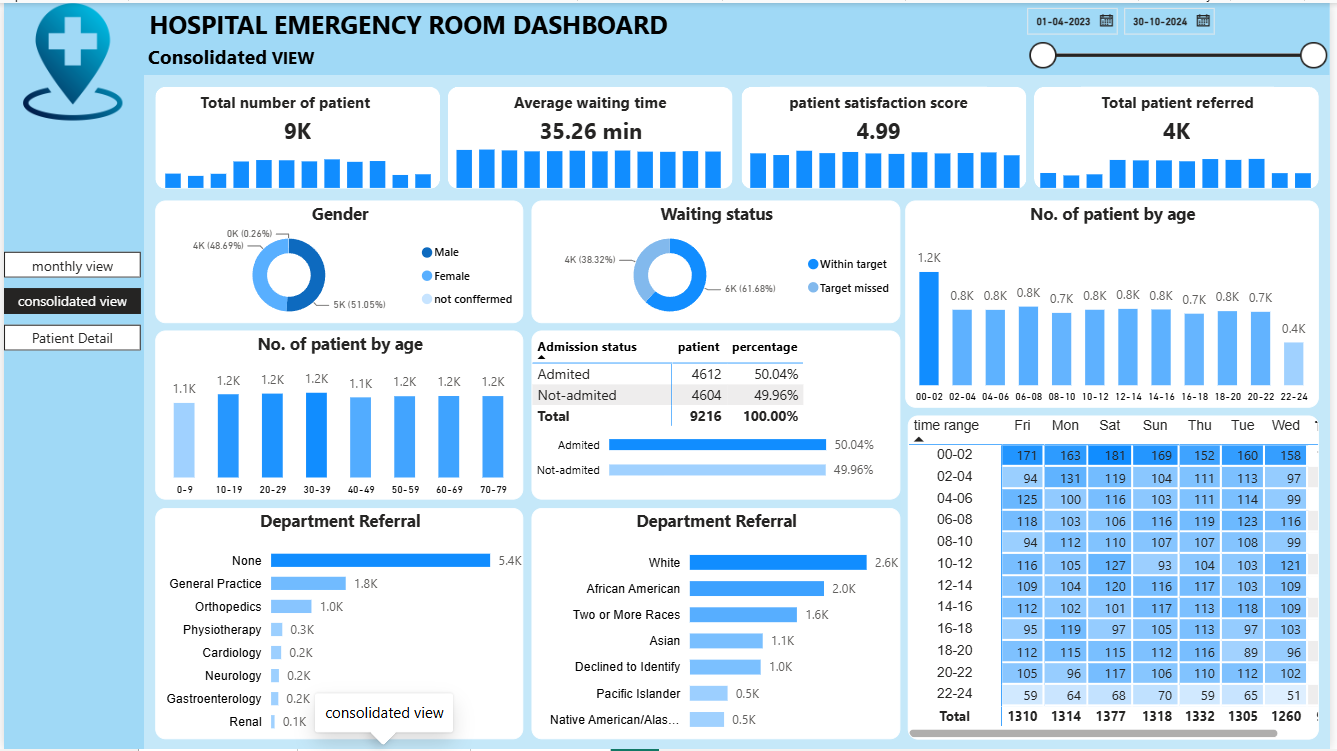

What the dashboard file says about the page in this screenshot:
{"tool":"powerbi","page":{"name":"consolidated view","canvas":[1280,720],"ordinal":1},"visuals":[{"type":"shape","box":[134.5,0,1145.8,69.7],"z":0},{"type":"barChart","title":"Department Referral","fields":{"Category":["Hospital ER_Data.Department Referral"],"Y":["all messure.Total number of pationt"]},"box":[146,487,355.3,223.6],"z":1000},{"type":"shape","box":[0,0,135.1,720.2],"z":2000},{"type":"barChart","title":"Department Referral","fields":{"Y":["all messure.Total number of pationt"],"Category":["Hospital ER_Data.Patient Race"]},"box":[508.8,487,355.6,223.6],"z":3000},{"type":"textbox","box":[135,0,533.8,37.5],"z":4000},{"type":"shape","box":[146,80.8,275,98.6],"z":5000,"group":"g1"},{"type":"pivotTable","title":"Patient admission status","fields":{"Rows":["Hospital ER_Data.Patient Admission status"],"Values":["Hospital ER_Data.Total number of pationt","Divide(Hospital ER_Data.Total number of pationt, ScopedEval(Hospital ER_Data.Total number of pationt, []))"]},"box":[508.8,316.2,355.6,163.3],"z":5000},{"type":"textbox","box":[134.5,34.2,204.2,35.5],"z":6000},{"type":"shape","box":[711.9,80.8,275,98.6],"z":6000,"group":"g1"},{"type":"shape","box":[994.2,80.8,275,98.6],"z":7000,"group":"g1"},{"type":"columnChart","title":"No. of patient by age ","fields":{"Category":["Hospital ER_Data.age group"],"Y":["all messure.Total number of pationt"]},"box":[146,316.2,355.3,163.3],"z":7000},{"type":"image","box":[0,0,132.5,113.8],"z":8000},{"type":"shape","box":[428.3,80.8,275,98.6],"z":8000,"group":"g1"},{"type":"cardVisual","fields":{"Data":["Hospital ER_Data.Total number of pationt"]},"box":[247.4,98,72.1,47],"z":9000,"group":"g1"},{"type":"donutChart","title":"Waiting status","fields":{"Category":["Hospital ER_Data.waiting status"],"Y":["all messure.Total number of pationt"]},"box":[508.8,190.6,355.6,118.1],"z":9000},{"type":"columnChart","fields":{"Category":["calendar.month"],"Y":["all messure.Total number of pationt"]},"box":[155.1,129.3,256.7,50.4],"z":10000,"group":"g1"},{"type":"donutChart","title":"Gender","fields":{"Y":["all messure.Total number of pationt"],"Category":["Hospital ER_Data.Patient Gender"]},"box":[146,190.6,355.3,118.1],"z":10000},{"type":"textbox","box":[179,80.8,185.8,33.3],"z":11000,"group":"g1"},{"type":"columnChart","title":"No. of patient by age ","fields":{"Y":["all messure.Total number of pationt"],"Category":["Hospital ER_Data.time range"]},"box":[870.3,190.6,398.8,199.7],"z":11000},{"type":"group","id":"g1","title":"Group 2","box":[146,80.8,1123.2,98.9],"z":12000},{"type":"cardVisual","fields":{"Data":["Hospital ER_Data.Average waiting time"]},"box":[502.9,98,127.1,47],"z":12000,"group":"g1"},{"type":"cardVisual","fields":{"Data":["Avg(Hospital ER_Data.Patient Satisfaction Score)"]},"box":[809.7,98,69.7,47],"z":13000,"group":"g1"},{"type":"pivotTable","fields":{"Rows":["Hospital ER_Data.time range"],"Values":["all messure.Total number of pationt"],"Columns":["calendar.dayname"]},"box":[872.3,398.1,396.9,312.5],"z":13000},{"type":"cardVisual","fields":{"Data":["Hospital ER_Data.patient referred"]},"box":[1096.9,98,70.9,47],"z":14000,"group":"g1"},{"type":"barChart","fields":{"Category":["Hospital ER_Data.Patient Admission status"],"Y":["all messure.Total number of pationt"]},"box":[509,390.6,331.2,88.7],"z":14000},{"type":"slicer","fields":{"Values":["calendar.Date"]},"box":[979.5,0,300.8,70.9],"z":15000},{"type":"columnChart","fields":{"Category":["calendar.month"],"Y":["all messure.patient referred"]},"box":[1000.3,129,261.5,50.4],"z":15000,"group":"g1"},{"type":"pageNavigator","box":[0,240,132.7,97.7],"z":15001},{"type":"columnChart","fields":{"Y":["Avg(Hospital ER_Data.Patient Satisfaction Score)"],"Category":["calendar.month"]},"box":[719.8,129.3,260.3,50.4],"z":16000,"group":"g1"},{"type":"columnChart","fields":{"Category":["calendar.month"],"Y":["Avg(Hospital ER_Data.Patient Waittime)"]},"box":[436.9,129,255.4,50.4],"z":17000,"group":"g1"},{"type":"textbox","box":[473.5,80.8,185.8,33.3],"z":18000,"group":"g1"},{"type":"textbox","box":[740,80.8,209,33.3],"z":19000,"group":"g1"},{"type":"textbox","box":[1039.4,80.8,185.8,33.3],"z":20000,"group":"g1"}]}

Visuals, with their boxes on the page's 1280x720 design canvas (x1, y1, x2, y2). These are canvas units, not pixel positions in the 1337x751 screenshot, which may show the page scaled, cropped or inside an application window:
shape: 134 0 1280 70
"Department Referral" barChart: 146 487 501 711
shape: 0 0 135 720
"Department Referral" barChart: 509 487 864 711
textbox: 135 0 669 38
shape: 146 81 421 179
"Patient admission status" pivotTable: 509 316 864 480
textbox: 134 34 339 70
shape: 712 81 987 179
shape: 994 81 1269 179
"No. of patient by age " columnChart: 146 316 501 480
image: 0 0 132 114
shape: 428 81 703 179
cardVisual - Hospital ER_Data.Total number of pationt: 247 98 320 145
"Waiting status" donutChart: 509 191 864 309
columnChart - calendar.month x all messure.Total number of pationt: 155 129 412 180
"Gender" donutChart: 146 191 501 309
textbox: 179 81 365 114
"No. of patient by age " columnChart: 870 191 1269 390
"Group 2" group: 146 81 1269 180
cardVisual - Hospital ER_Data.Average waiting time: 503 98 630 145
cardVisual - Avg(Hospital ER_Data.Patient Satisfaction Score): 810 98 879 145
pivotTable - Hospital ER_Data.time range x all messure.Total number of pationt: 872 398 1269 711
cardVisual - Hospital ER_Data.patient referred: 1097 98 1168 145
barChart - Hospital ER_Data.Patient Admission status x all messure.Total number of pationt: 509 391 840 479
slicer - calendar.Date: 980 0 1280 71
columnChart - calendar.month x all messure.patient referred: 1000 129 1262 179
pageNavigator: 0 240 133 338
columnChart - Avg(Hospital ER_Data.Patient Satisfaction Score) x calendar.month: 720 129 980 180
columnChart - calendar.month x Avg(Hospital ER_Data.Patient Waittime): 437 129 692 179
textbox: 474 81 659 114
textbox: 740 81 949 114
textbox: 1039 81 1225 114
